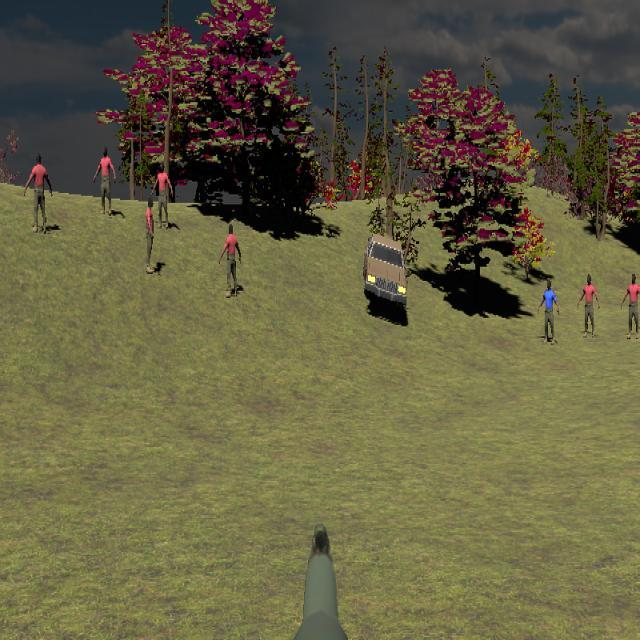Human: (24, 153, 53, 234), (220, 223, 241, 299), (94, 146, 116, 216), (577, 274, 600, 337), (152, 162, 173, 230), (538, 279, 559, 344), (621, 274, 640, 340), (146, 194, 155, 274)
car: (363, 236, 407, 309)
